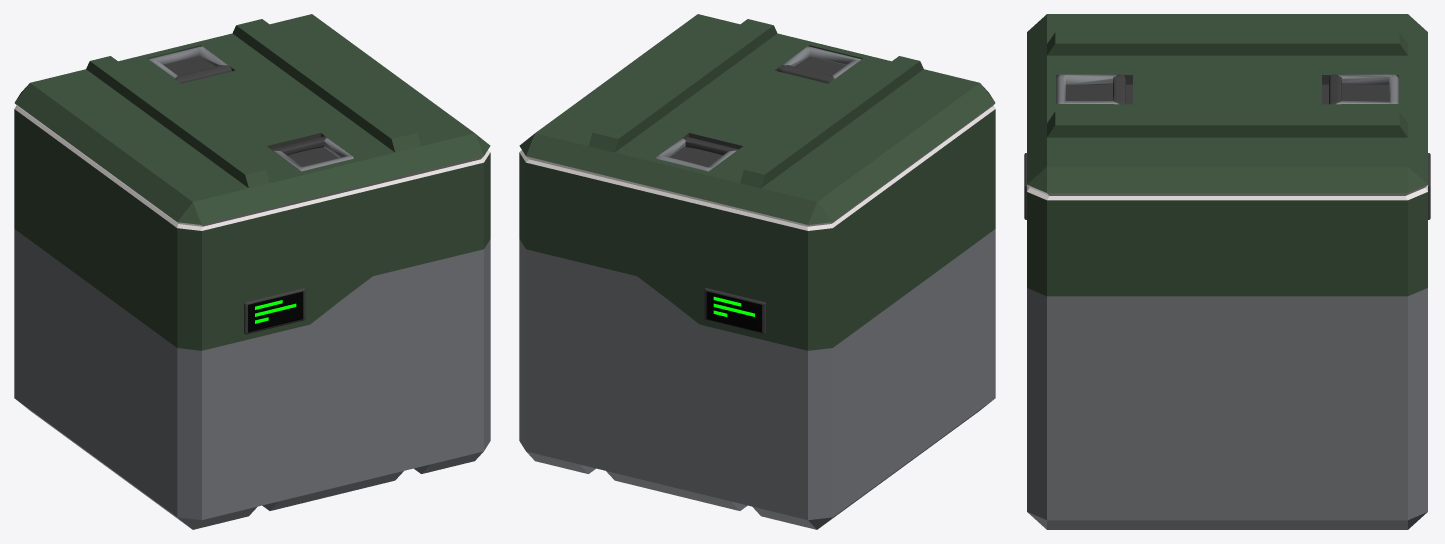
The model's file is prop_crate.fbx.
3 renders of one model, left to right at view 1: azimuth 30°, elevation 25°; view 2: azimuth 150°, elevation 25°; view 3: azimuth 270°, elevation 25°, orthographic. The views are drawn at different scales.
Visible parts, largest first — view 1: Crate, Handles, Screen; view 2: Crate, Handles, Screen; view 3: Crate, Handles.
Part boxes in pixels (box(x1,y1,x2,y2)): Crate: box(14, 14, 490, 529); Handles: box(148, 46, 354, 171); Screen: box(244, 288, 305, 334); Crate: box(519, 14, 995, 529); Handles: box(655, 46, 861, 171); Screen: box(704, 288, 765, 334); Crate: box(1027, 14, 1427, 529); Handles: box(1056, 74, 1398, 104).
Bounding box in the file's own units: 0.77 × 0.7956 × 0.7802.
